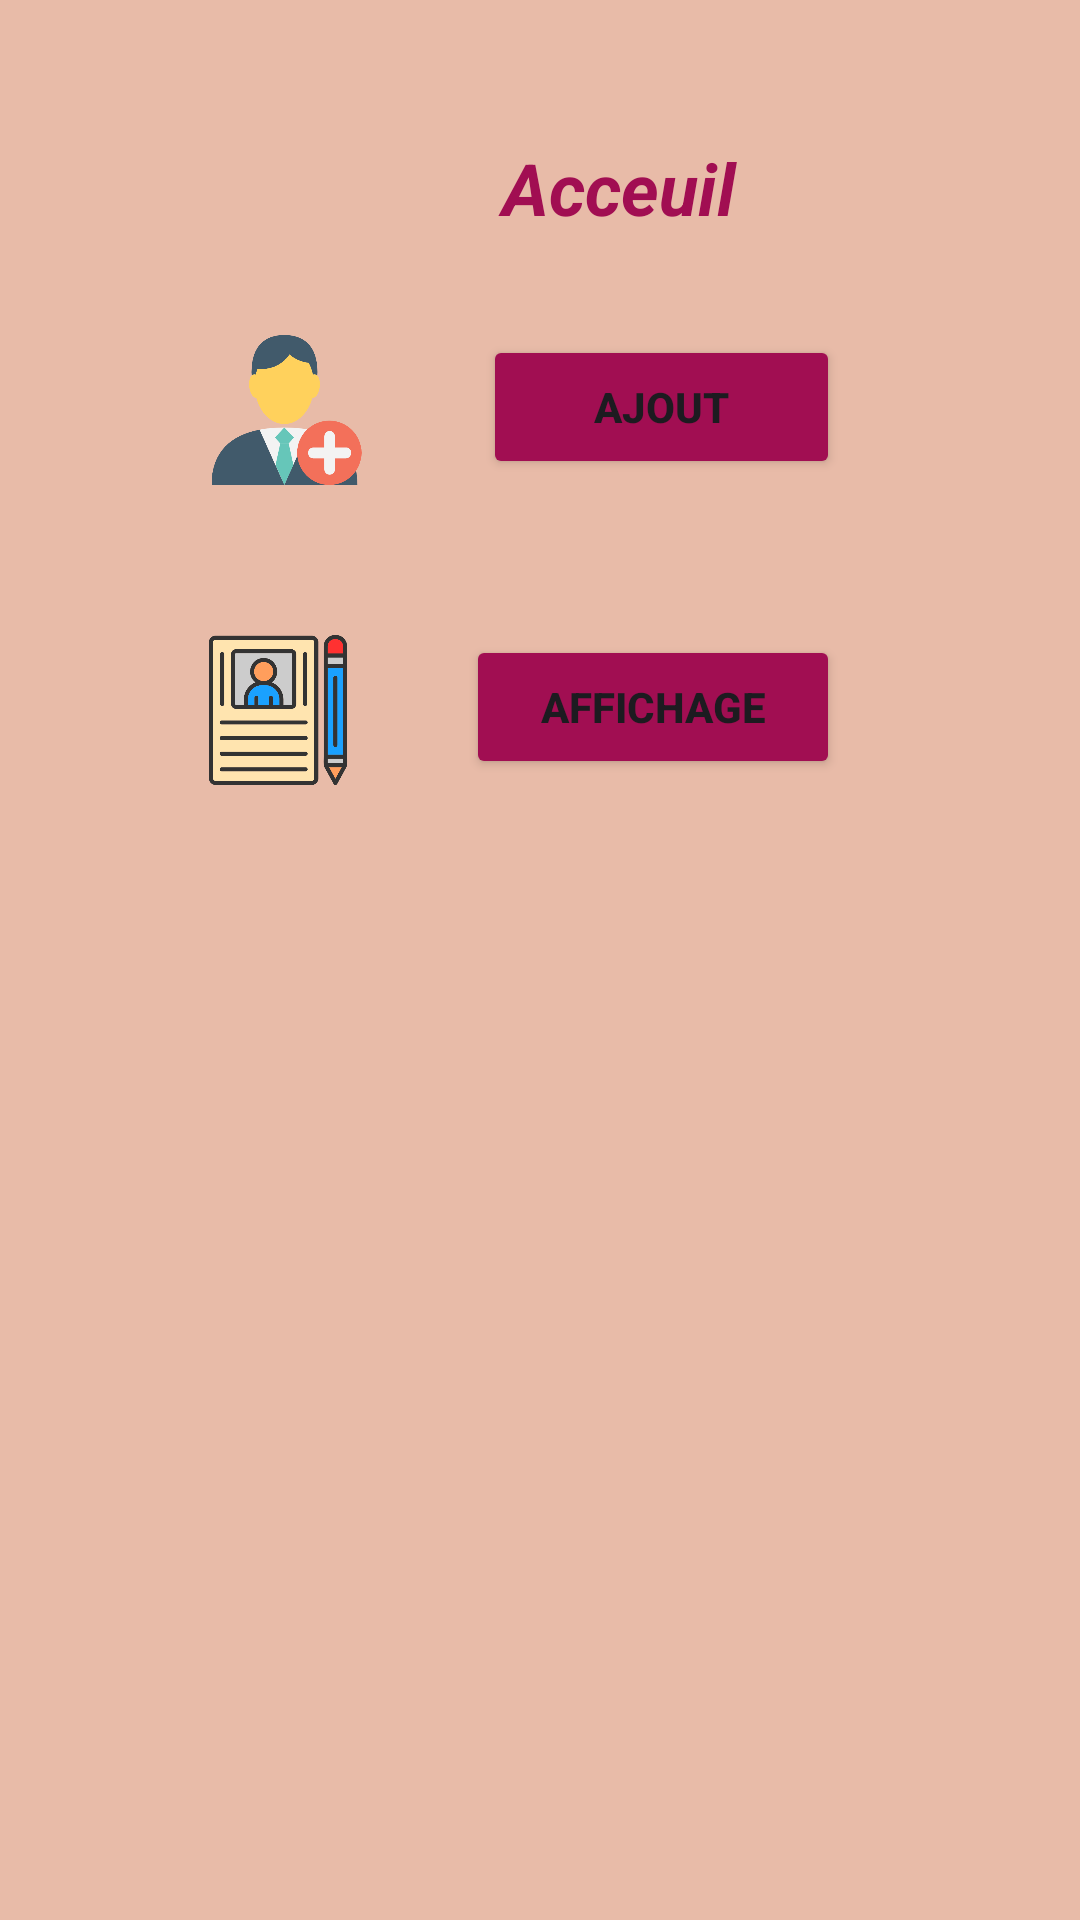

Icons on this 1080 x 1920 Android screen, each with its box as (x1, y1, x2, y2):
Add: (212, 335, 362, 485)
